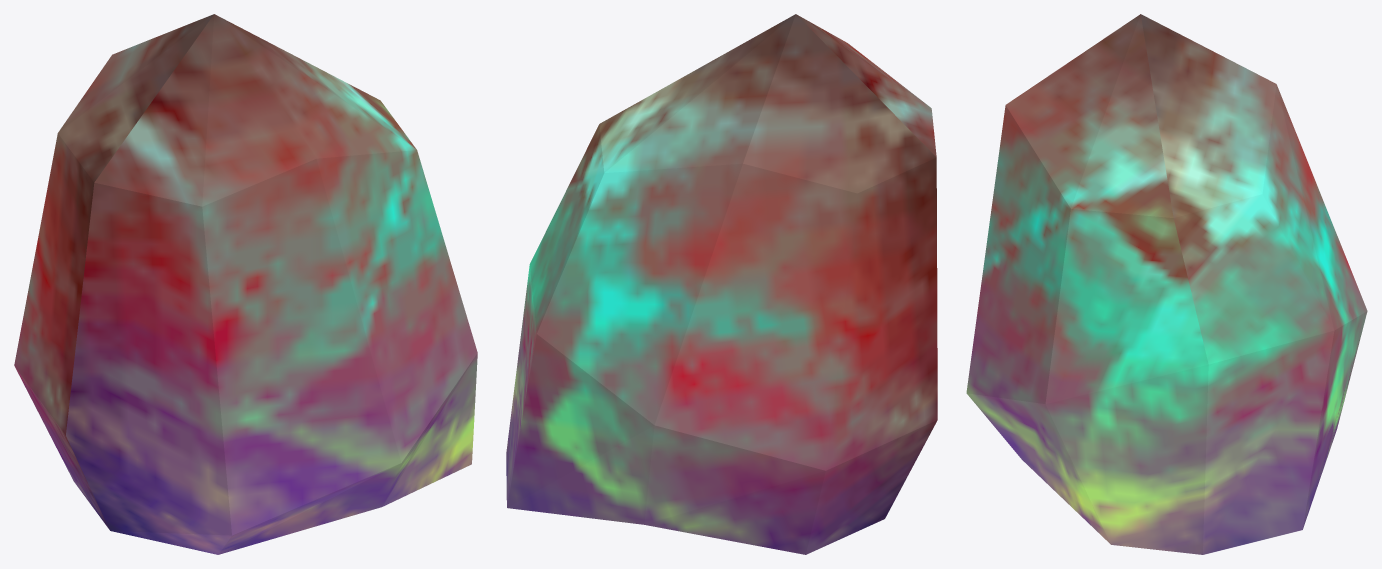
The picture shows the model from 3 angles, left to right: view 1: azimuth 30°, elevation 25°; view 2: azimuth 150°, elevation 25°; view 3: azimuth 270°, elevation 25°; orthographic projection. The views are drawn at different scales.
Parts seen in each view (by area): view 1: m_nb_0001_none; view 2: m_nb_0001_none; view 3: m_nb_0001_none.
Part boxes in pixels (x1,y1,x2,y2): m_nb_0001_none: [14, 14, 477, 554]; m_nb_0001_none: [506, 14, 937, 554]; m_nb_0001_none: [966, 14, 1367, 554].
Bounding box in the file's own units: 29.8 × 34.25 × 28.95.
Materials: 1 (1 with a texture image).
